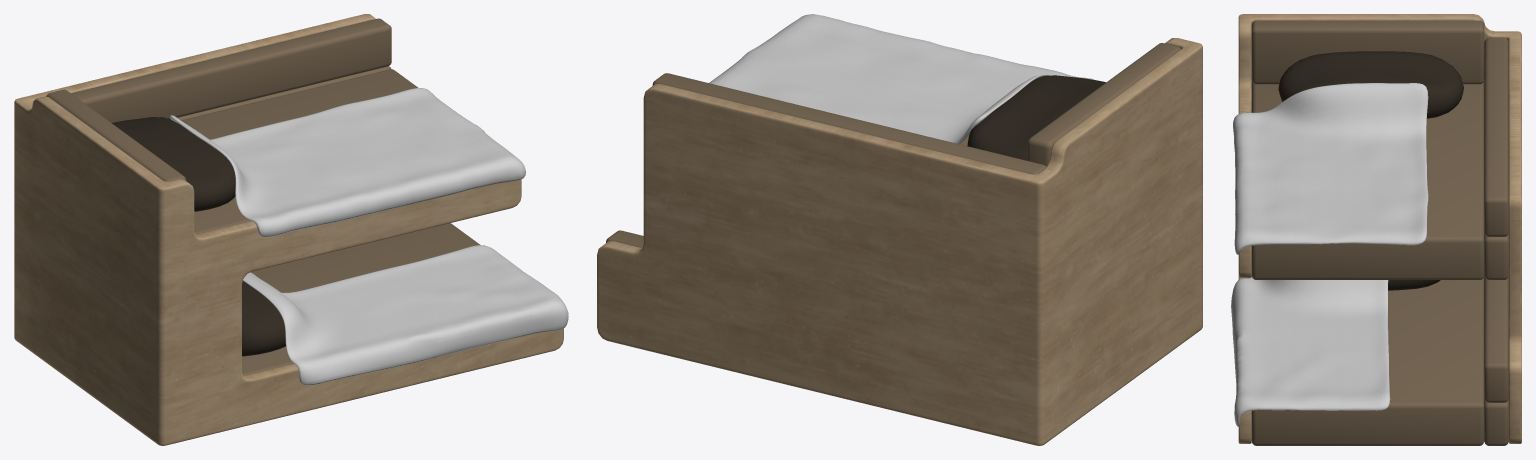
Rendered from simple_wooden_bunk_bed.glb.
3 views of the same model, side by side, from view 1: azimuth 30°, elevation 25°; view 2: azimuth 150°, elevation 25°; view 3: azimuth 270°, elevation 25° (orthographic). The views are drawn at different scales.
Parts seen in each view (by area): view 1: ifufui; view 2: ifufui; view 3: ifufui.
Part boxes in pixels (bbox=[...]): ifufui: bbox=[14, 14, 568, 445]; ifufui: bbox=[597, 14, 1202, 445]; ifufui: bbox=[1231, 14, 1521, 445].
Size of the model in its own units: 18.97 by 11.4 by 12.21.
1 material, 1 textured.
